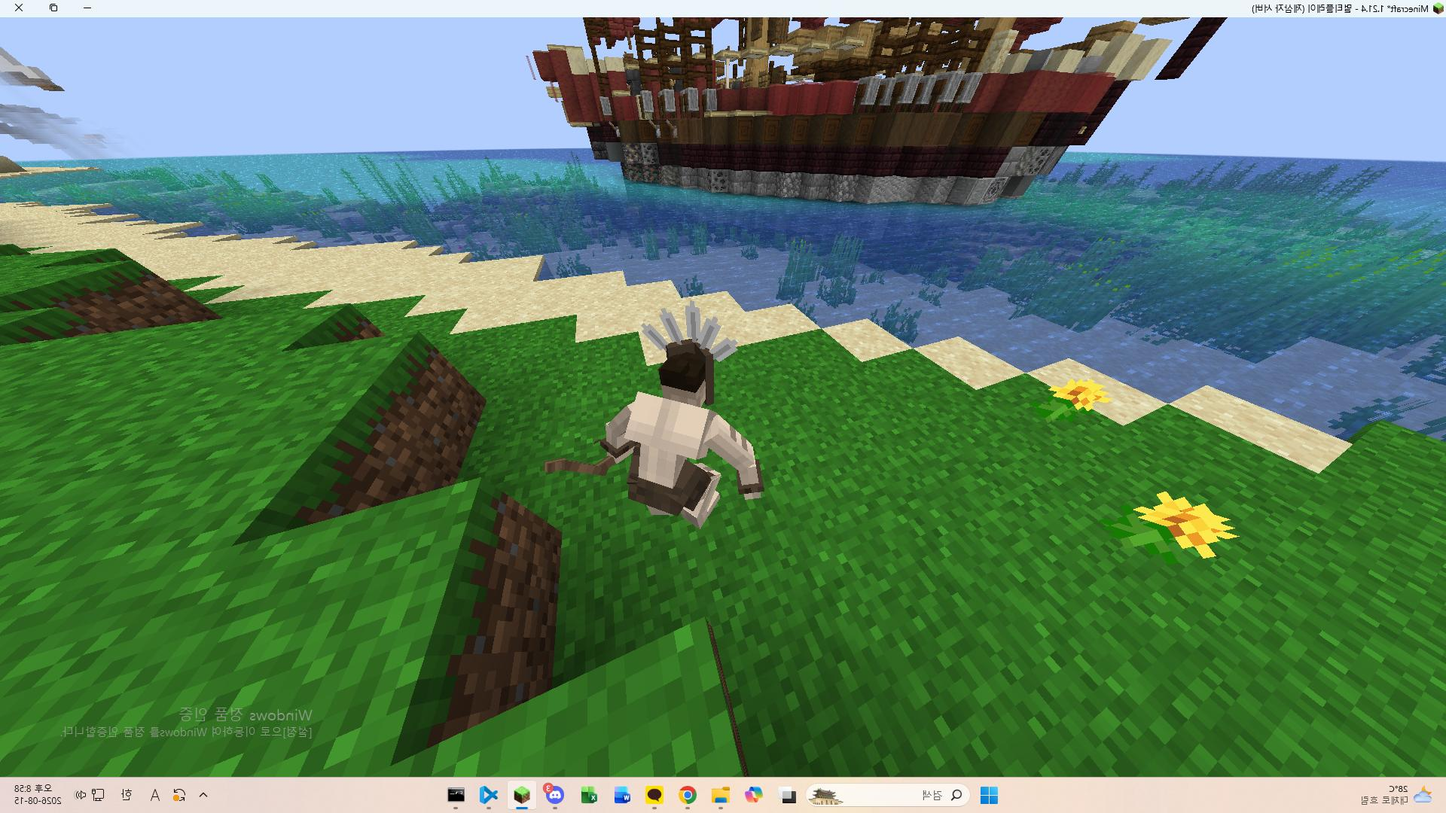bow_indian: (521, 309, 775, 568)
